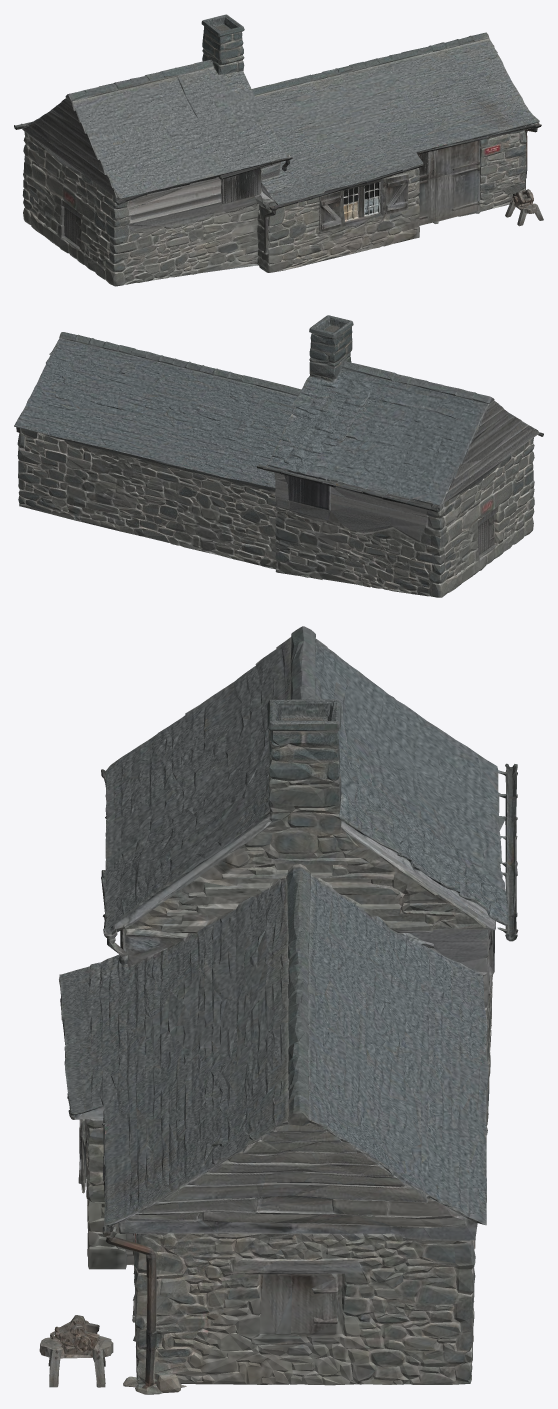
Rendered from smithy_llawr_y_glyn_a.meshy.reduced.glb.
3 views of the same model, one above another, from view 1: azimuth 30°, elevation 25°; view 2: azimuth 150°, elevation 25°; view 3: azimuth 270°, elevation 25° (orthographic). The views are drawn at different scales.
Size of the model in its own units: 1.9 by 0.9129 by 0.9288.
1 material, 1 textured.
